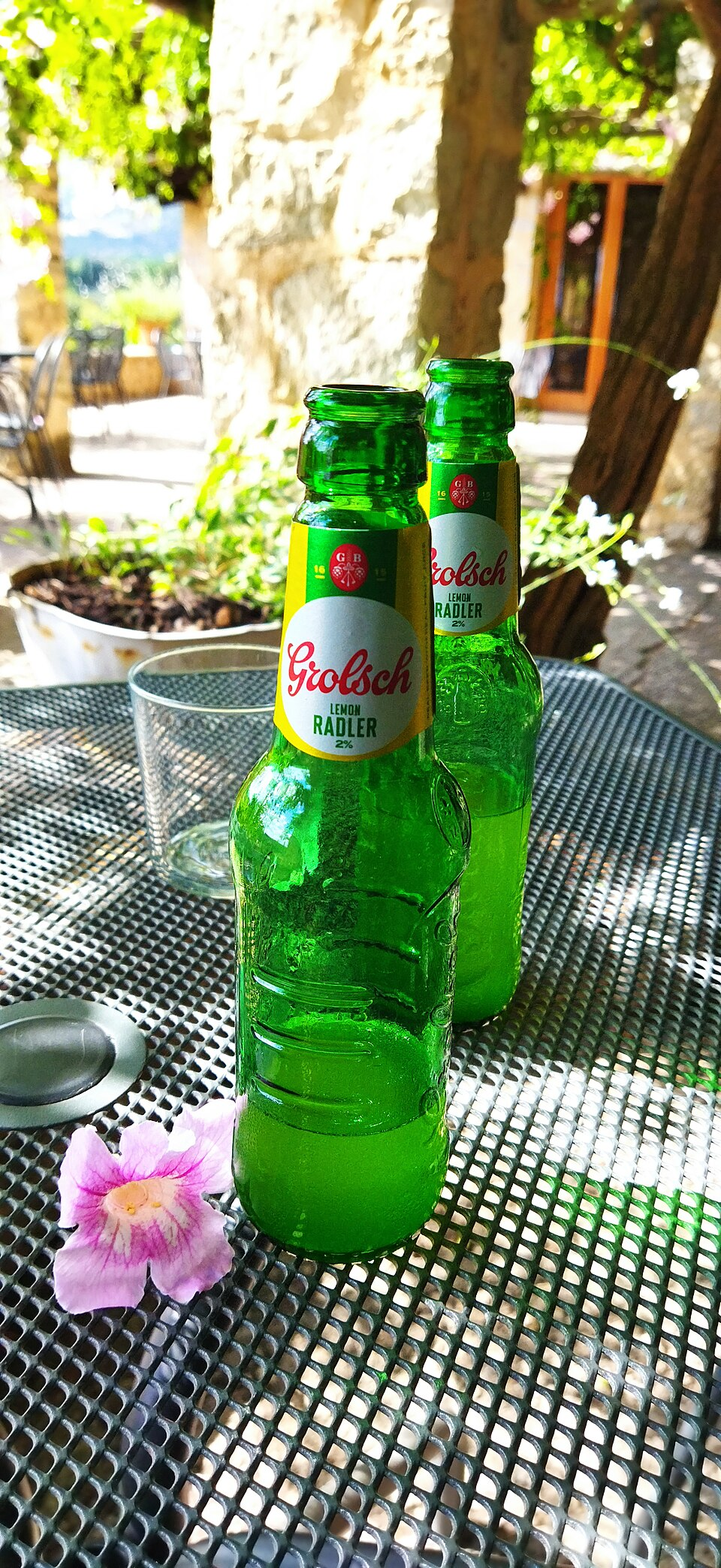beer-bottle: (220, 372, 480, 1267), (412, 350, 557, 1028)
